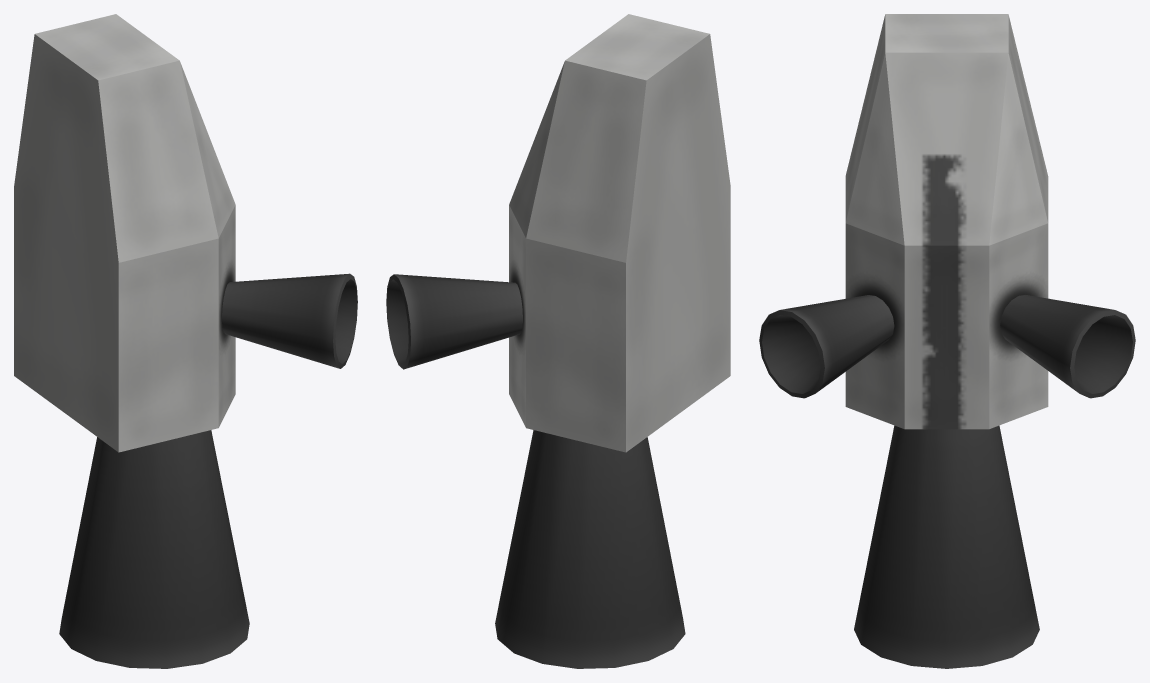
The model's file is RCSblock.dae.
3 views of the same model, side by side, from view 1: azimuth 30°, elevation 25°; view 2: azimuth 150°, elevation 25°; view 3: azimuth 270°, elevation 25° (orthographic). The views are drawn at different scales.
Visible parts, largest first — view 1: RCSblockE, Thruster, Thruster2; view 2: RCSblockE, Thruster, Thruster1; view 3: RCSblockE, Thruster, Thruster1, Thruster2.
Boxes of the visible parts, x1,y1,x2,y2 form: RCSblockE: (14,14,235,452); Thruster: (59,430,249,668); Thruster2: (222,273,357,368); RCSblockE: (509,14,730,452); Thruster: (495,430,685,668); Thruster1: (386,274,522,369); RCSblockE: (845,14,1048,429); Thruster: (854,425,1039,668); Thruster1: (1000,295,1135,398); Thruster2: (759,295,894,398).
Bounding box in the file's own units: 0.0633 × 0.1574 × 0.0932.
